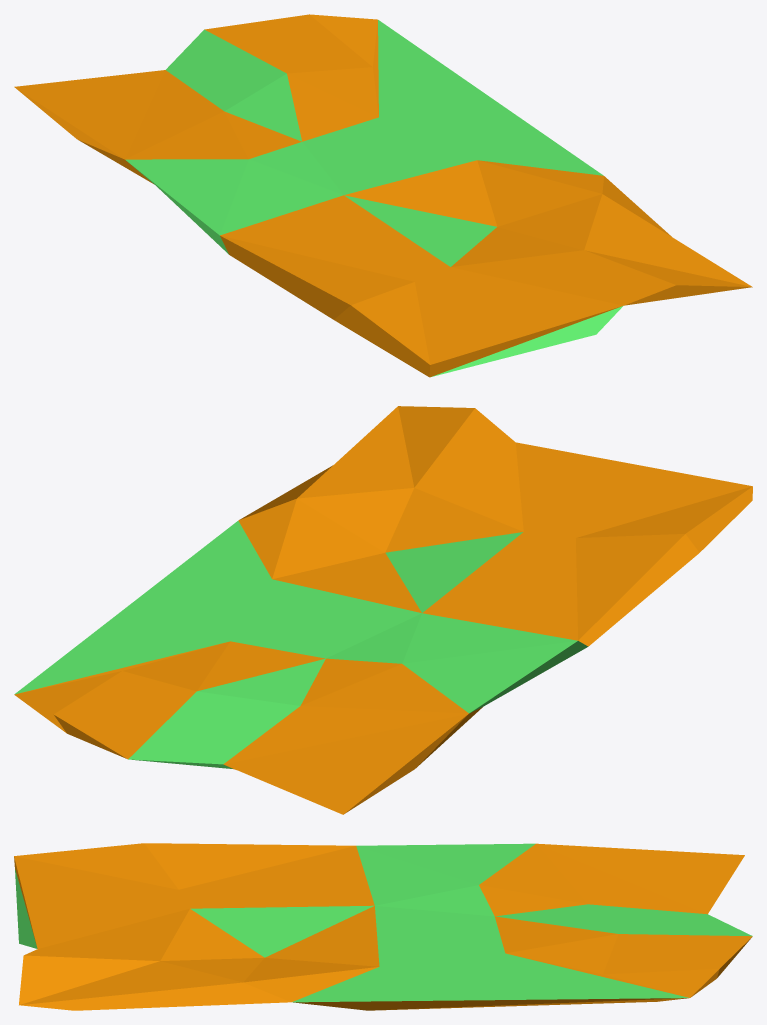
Rendered from Beach Towel 3.glb.
3 renders of one model, top to bottom at view 1: azimuth 30°, elevation 25°; view 2: azimuth 150°, elevation 25°; view 3: azimuth 270°, elevation 25°, orthographic. The views are drawn at different scales.
Parts seen in each view (by area): view 1: Beach Towel 3; view 2: Beach Towel 3; view 3: Beach Towel 3.
Part boxes in pixels (box(x1,y1,x2,y2)): Beach Towel 3: box(14, 14, 752, 377); Beach Towel 3: box(14, 406, 752, 814); Beach Towel 3: box(14, 843, 752, 1010).
Size of the model in its own units: 1.06 by 0.1116 by 2.11.
